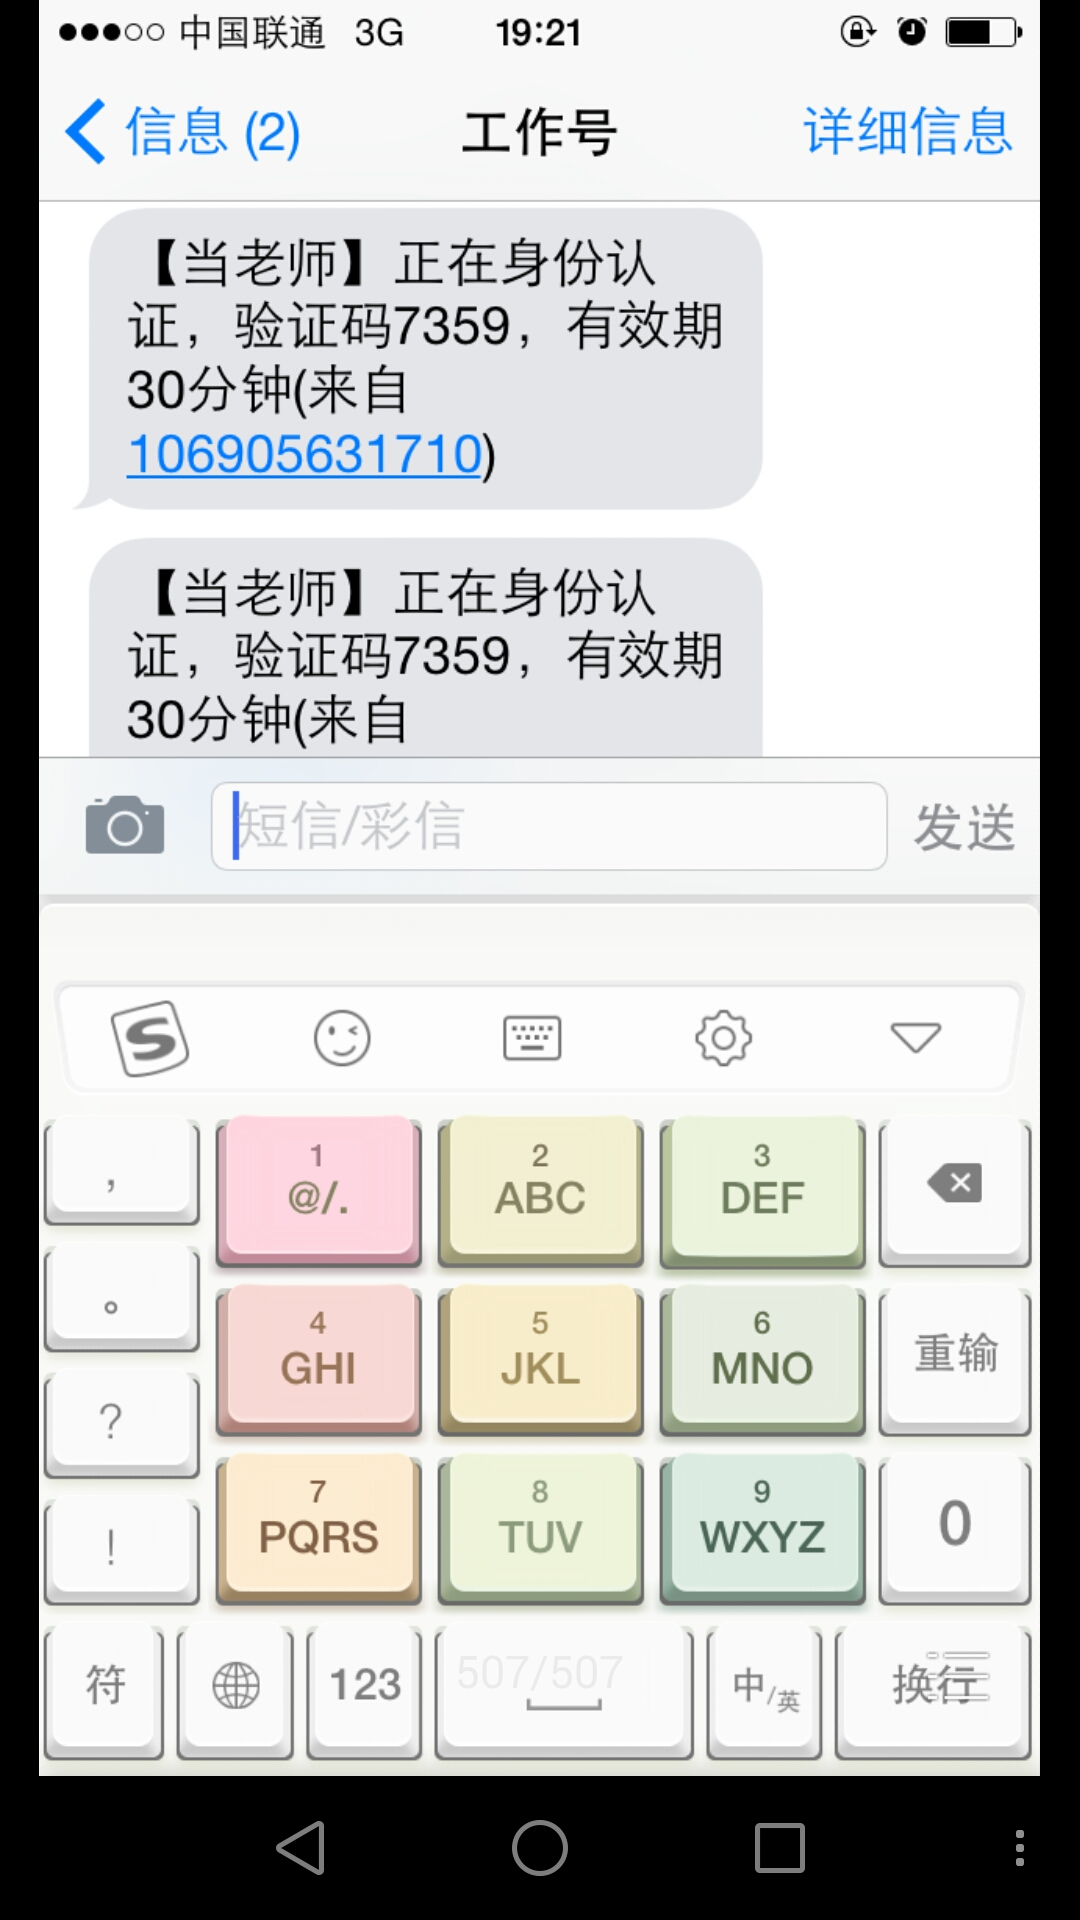button: (41, 86, 322, 189)
textview: (71, 200, 777, 510)
